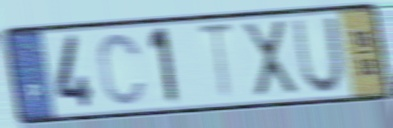1: (146, 24, 181, 108)
4: (53, 31, 100, 114)
C: (96, 31, 149, 109)
T: (194, 21, 237, 105)
U: (291, 14, 346, 96)
X: (239, 17, 302, 101)
